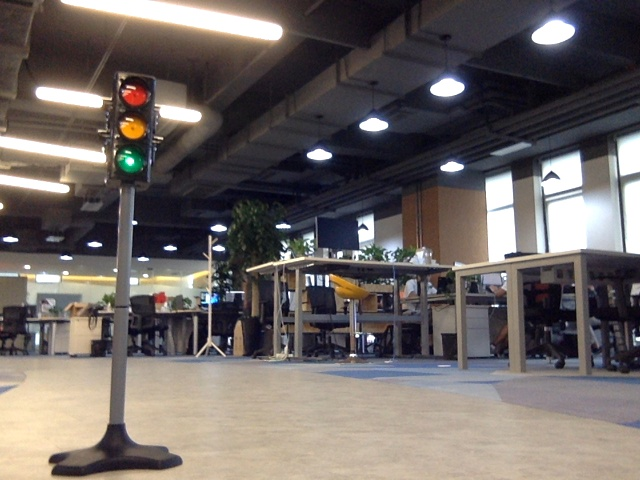green: (116, 82, 145, 176)
